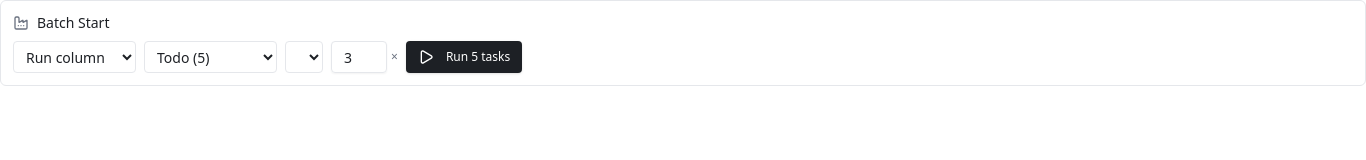
it: FactoryBatchStartPanel › shows task count for selection source
Select "Run selected" in the dropdown with test id "batch-source-select". click: (74, 57)
box: [13,41,136,73]
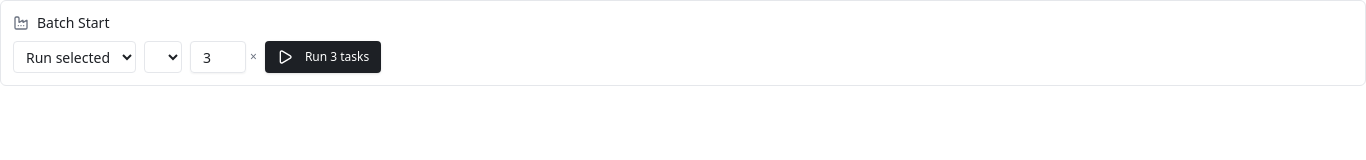
Result: the button "Run 3 tasks" is shown at [265,41,381,73]
